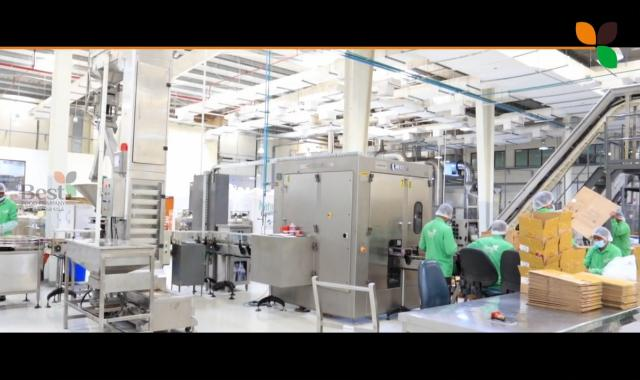hairnet: (592, 228, 614, 246), (490, 217, 509, 237), (436, 201, 455, 220), (533, 191, 552, 209), (608, 208, 626, 222)
